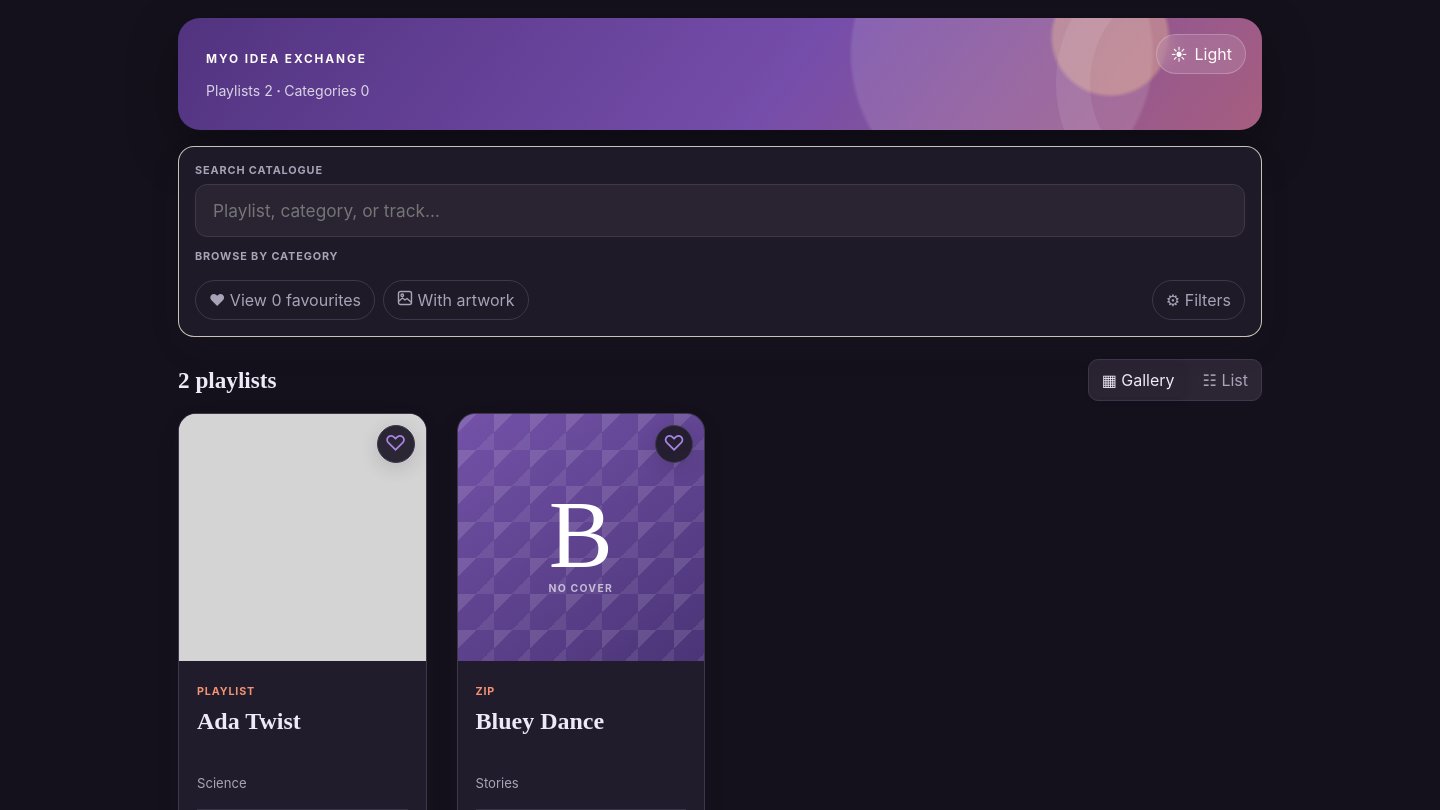
Test: catalogue app › replaces folder browsing with the best matching playlists while searching
(page scrolled)
In the search field: (720, 210) [195, 184, 1245, 237], type "scientist"
(page scrolled)
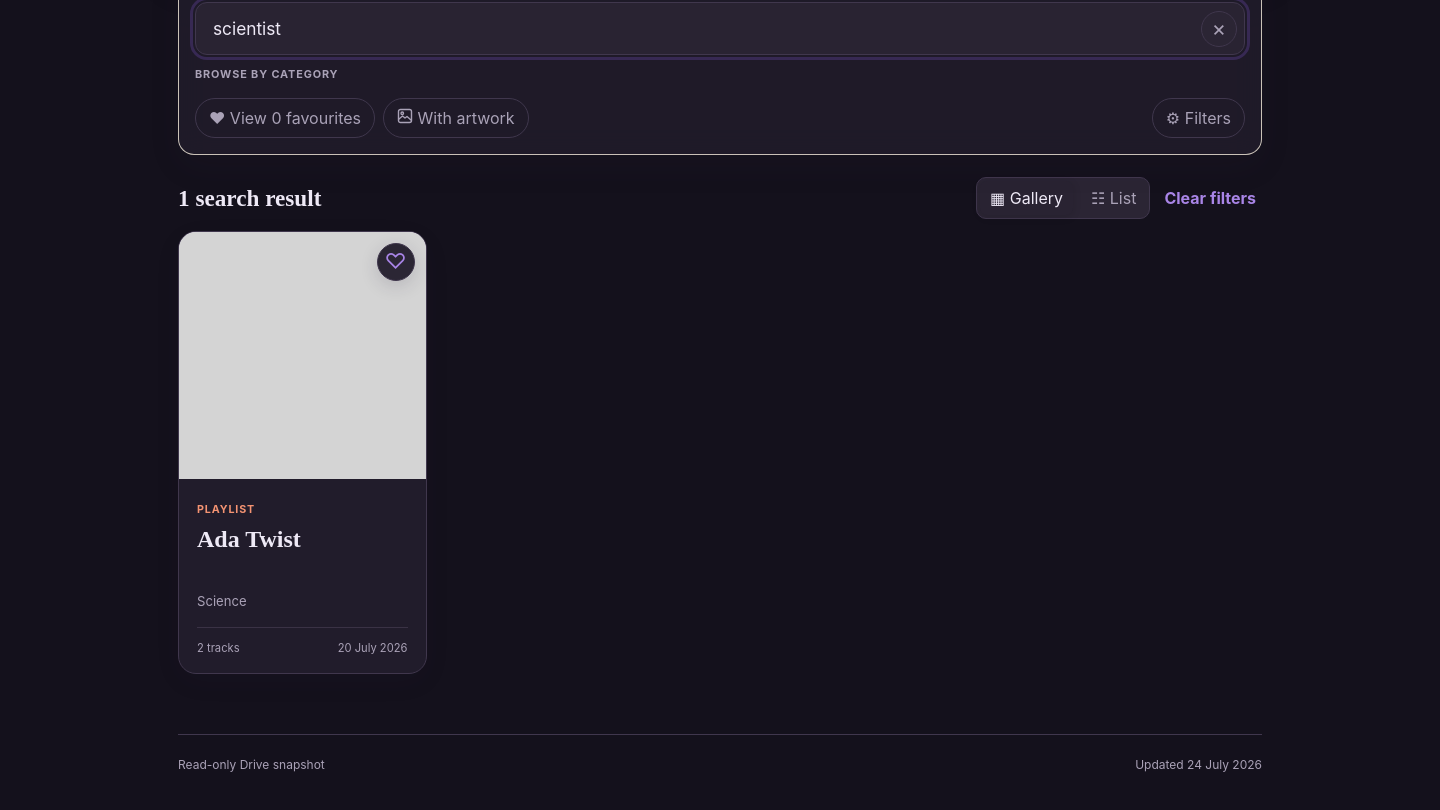
Expected: the heading "1 search result" is shown, [178, 184, 321, 212]
